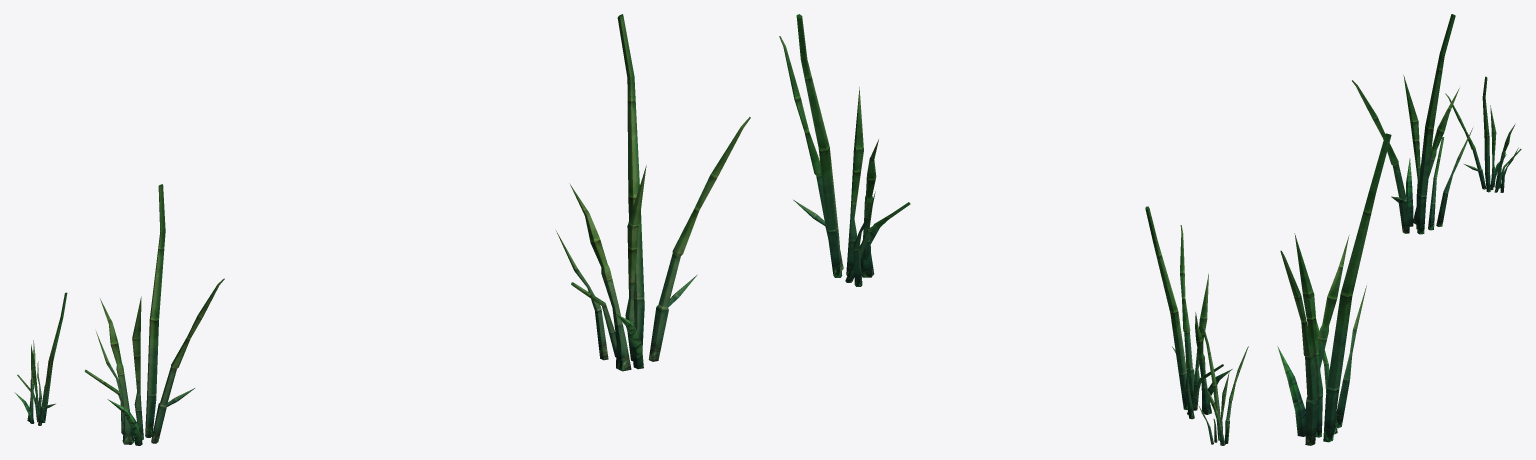
Rendered from Area_09_5.fbx.
3 views of the same model, side by side, from view 1: azimuth 30°, elevation 25°; view 2: azimuth 150°, elevation 25°; view 3: azimuth 270°, elevation 25° (orthographic). The views are drawn at different scales.
Parts seen in each view (by area): view 1: Area_09_5; view 2: Area_09_5; view 3: Area_09_5.
Part boxes in pixels (x1,y1,x2,y2): Area_09_5: [14, 14, 750, 445]; Area_09_5: [779, 14, 1248, 445]; Area_09_5: [1277, 14, 1521, 445].
Size of the model in its own units: 3890 by 1926 by 1325.
